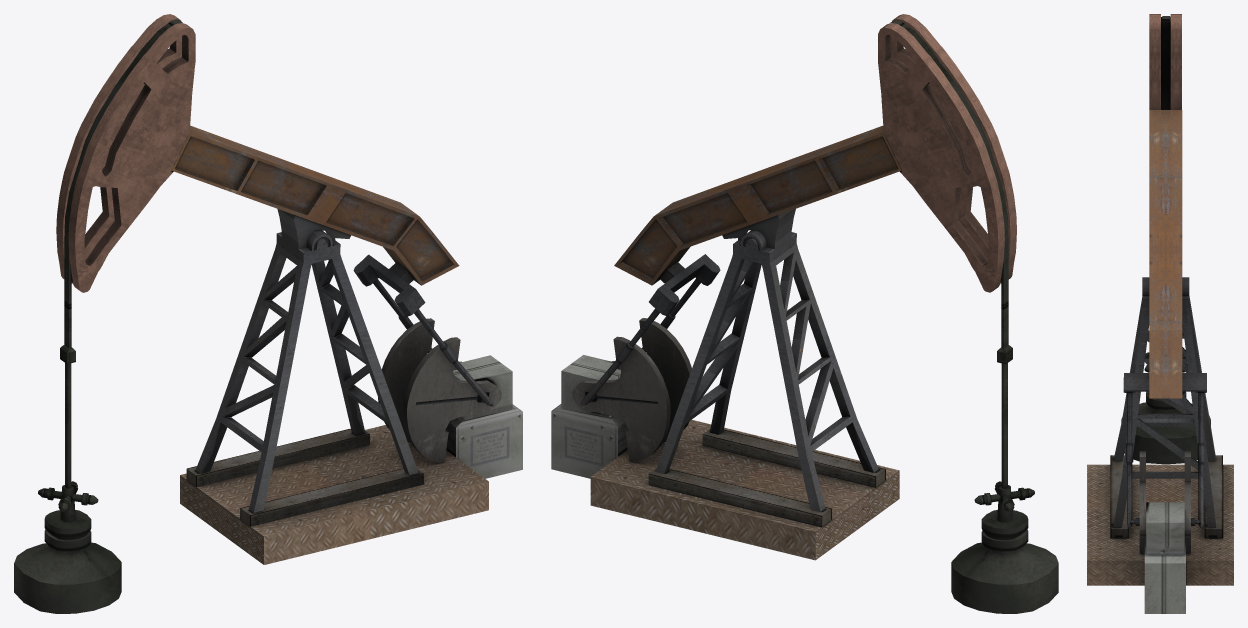
Rendered from oil_pump_jack.glb.
3 views of the same model, side by side, from view 1: azimuth 30°, elevation 25°; view 2: azimuth 150°, elevation 25°; view 3: azimuth 270°, elevation 25° (orthographic). The views are drawn at different scales.
Parts seen in each view (by area): view 1: Oil Pump; view 2: Oil Pump; view 3: Oil Pump.
Part boxes in pixels (box(x1,y1,x2,y2)): Oil Pump: box(14, 14, 522, 613); Oil Pump: box(551, 14, 1058, 613); Oil Pump: box(1087, 14, 1233, 613).
Bounding box in the file's own units: 4.43 × 4.74 × 1.33.
1 material, 1 textured.
